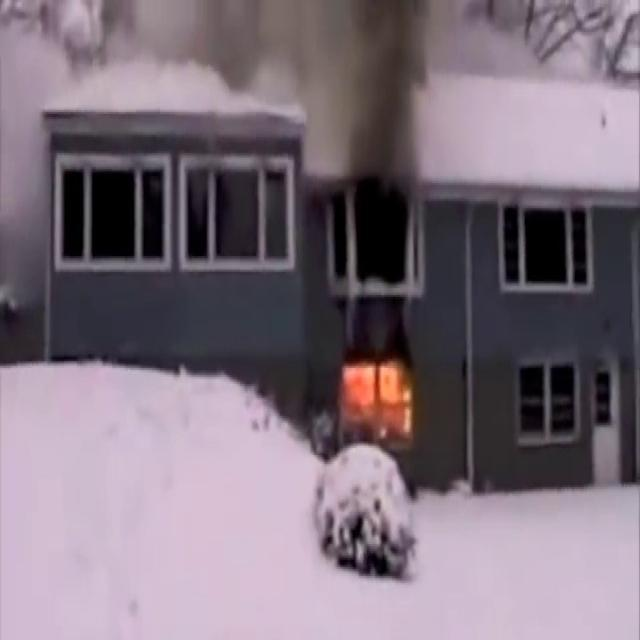Fire: (337, 358, 412, 438)
Smoke: (148, 0, 436, 198)
